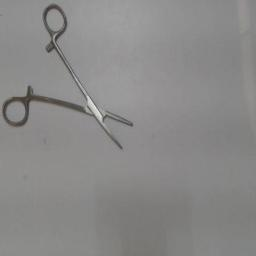Mayo Needle Holder: (2, 2, 142, 158)
